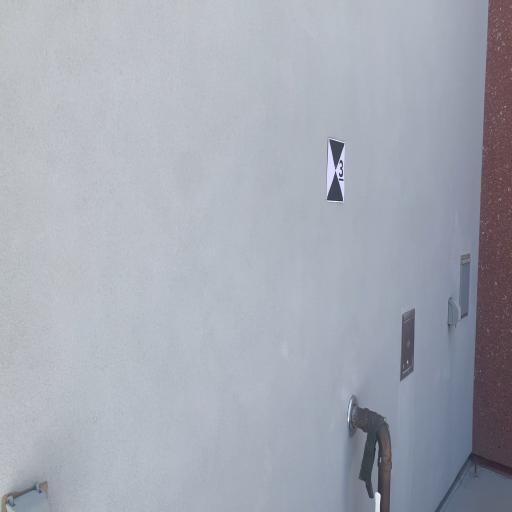target3: (325, 137, 347, 205)
